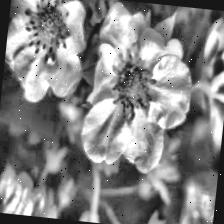Blossom Blight: (17, 0, 76, 65)
